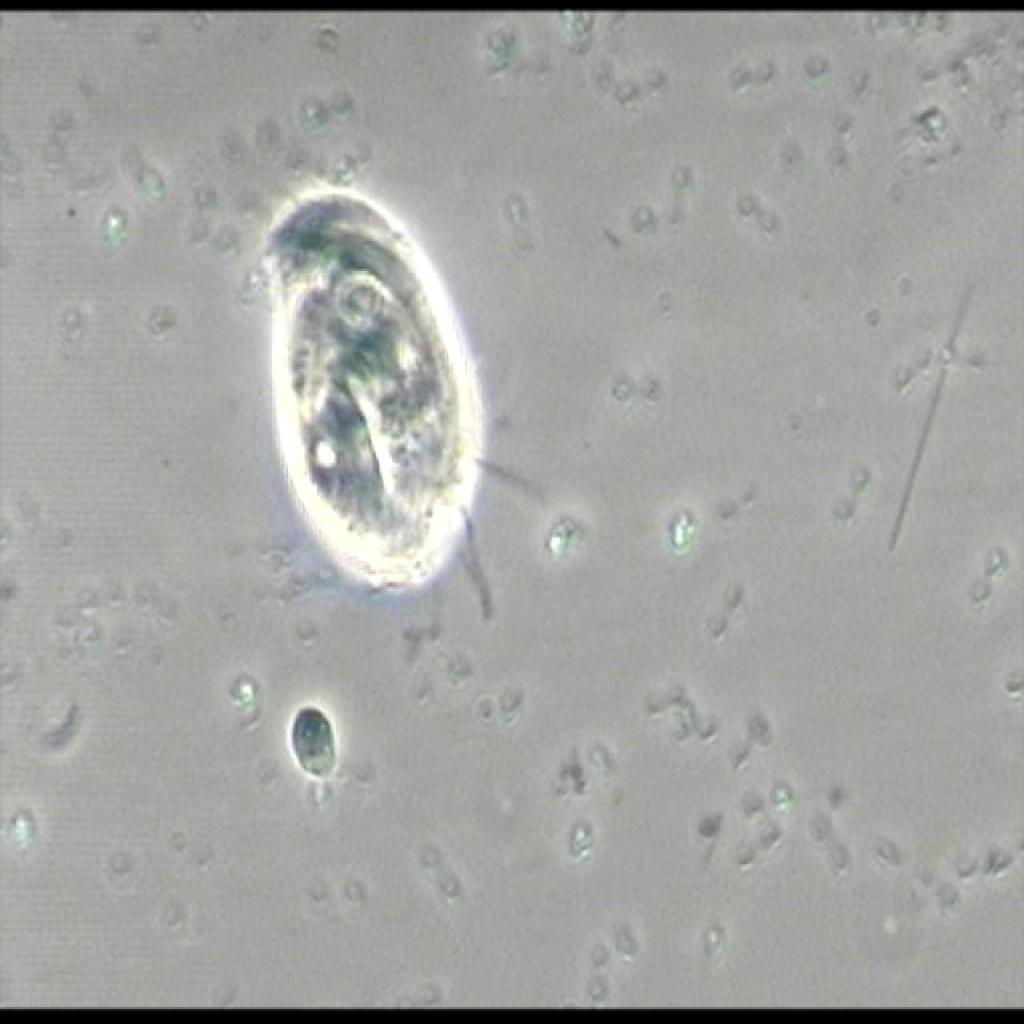Chilodonella: (234, 174, 560, 637)
